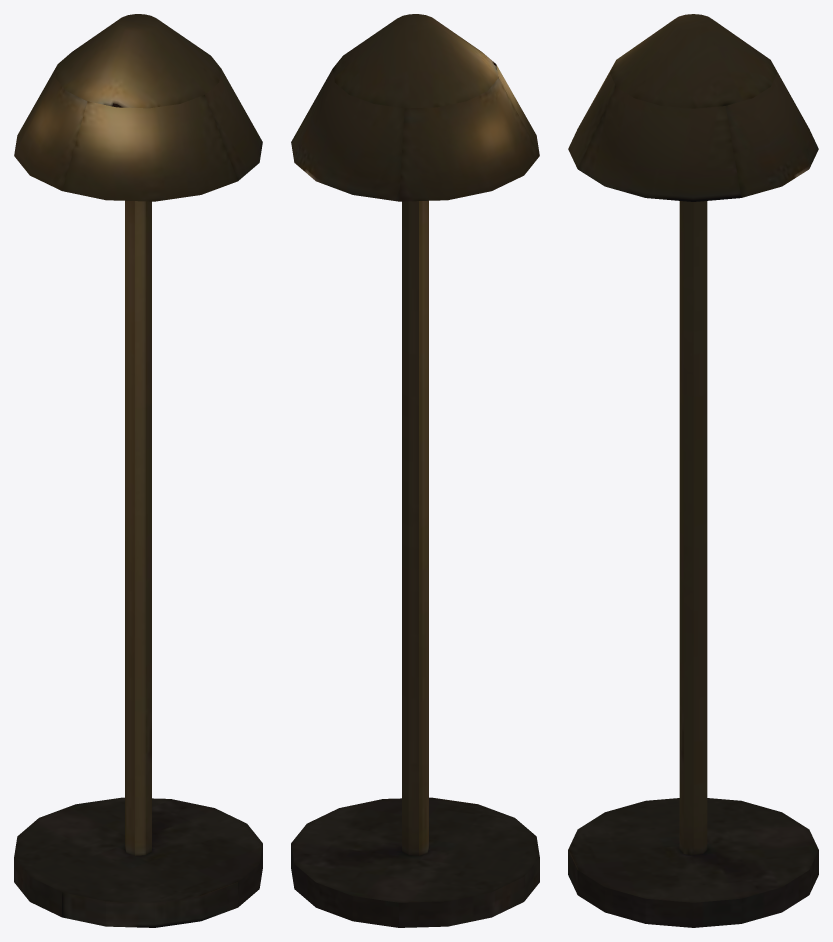
File: cantina_prop_lights.glb
3 renders of one model, left to right at view 1: azimuth 30°, elevation 25°; view 2: azimuth 150°, elevation 25°; view 3: azimuth 270°, elevation 25°, orthographic.
Visible parts, largest first — view 1: cantina_prop_lights; view 2: cantina_prop_lights; view 3: cantina_prop_lights.
Boxes of the visible parts, bbox=[...] form: cantina_prop_lights: bbox=[14, 14, 262, 927]; cantina_prop_lights: bbox=[291, 14, 539, 927]; cantina_prop_lights: bbox=[568, 14, 818, 927].
Bounding box in the file's own units: 0.36 × 1.35 × 0.36.
1 material, 1 textured.
